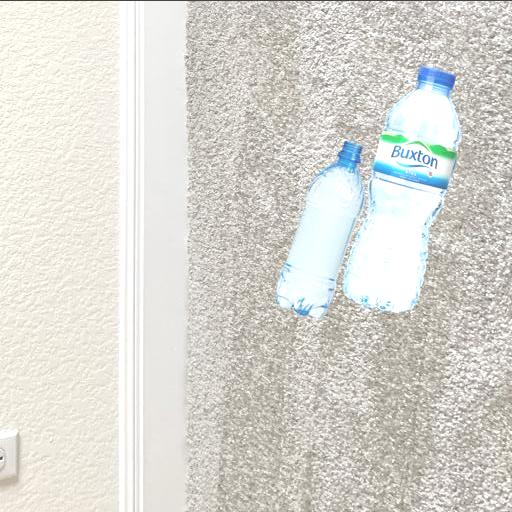bottle: (341, 65, 464, 324), (268, 131, 372, 327)
